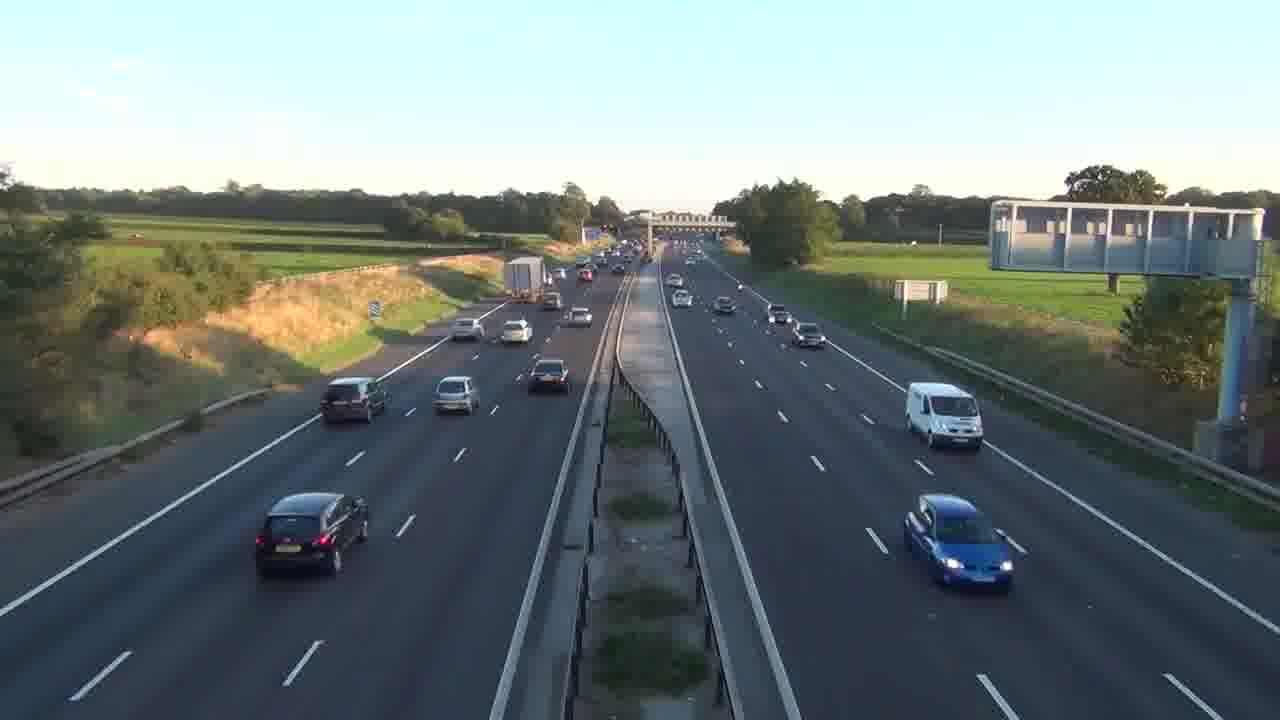car: (254, 491, 370, 577), (319, 377, 388, 423), (432, 375, 480, 416), (527, 358, 570, 394), (498, 317, 533, 344), (565, 306, 593, 327)
truck: (902, 492, 1018, 593), (905, 380, 984, 449)
